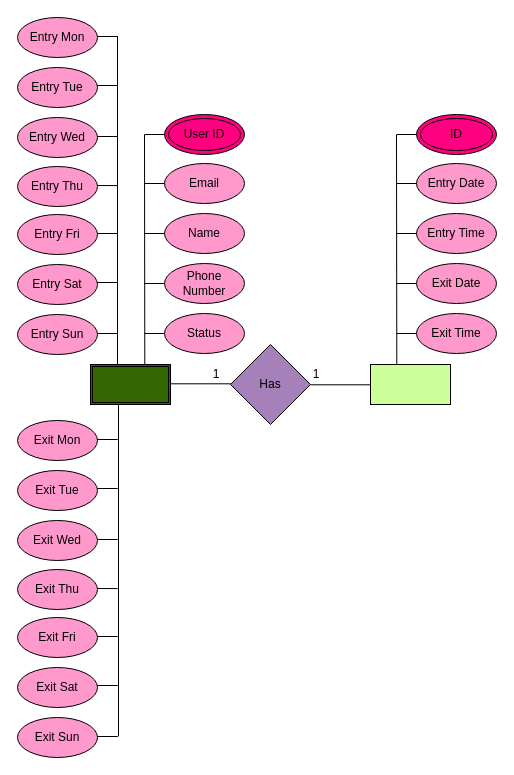
Some shapes in this 514 by 775 pixel diagram are drawn without their labels. The centre of each missing label's shape, as x and y in pixels:
History: point 410,384
User: point 130,384
